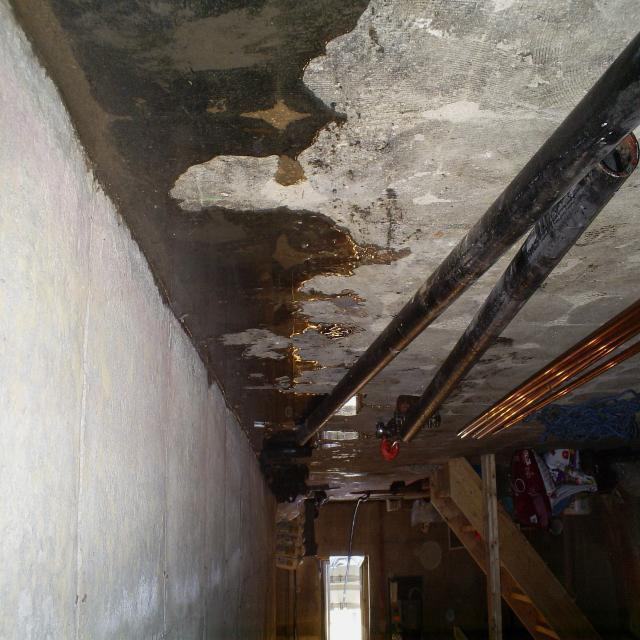water accumulation: (10, 1, 413, 454)
